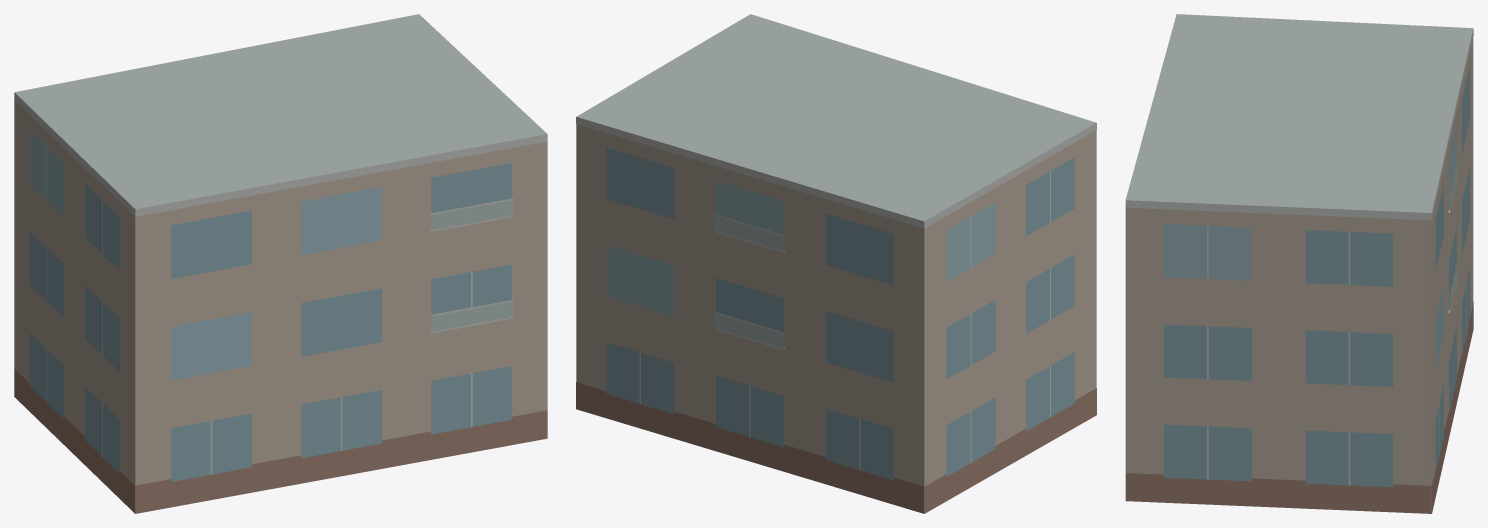
File: survey-upis-32639646.glb
3 views of the same model, side by side, from view 1: azimuth 30°, elevation 25°; view 2: azimuth 150°, elevation 25°; view 3: azimuth 270°, elevation 25° (orthographic). The views are drawn at different scales.
Visible parts, largest first — view 1: survey-upis-32639646.tmp; view 2: survey-upis-32639646.tmp; view 3: survey-upis-32639646.tmp.
Boxes of the visible parts, left/top/right/bottom form: survey-upis-32639646.tmp: left=14, top=14, right=547, bottom=513; survey-upis-32639646.tmp: left=576, top=14, right=1096, bottom=513; survey-upis-32639646.tmp: left=1125, top=14, right=1473, bottom=513.
Size of the model in its own units: 14.06 by 9.9 by 10.39.
